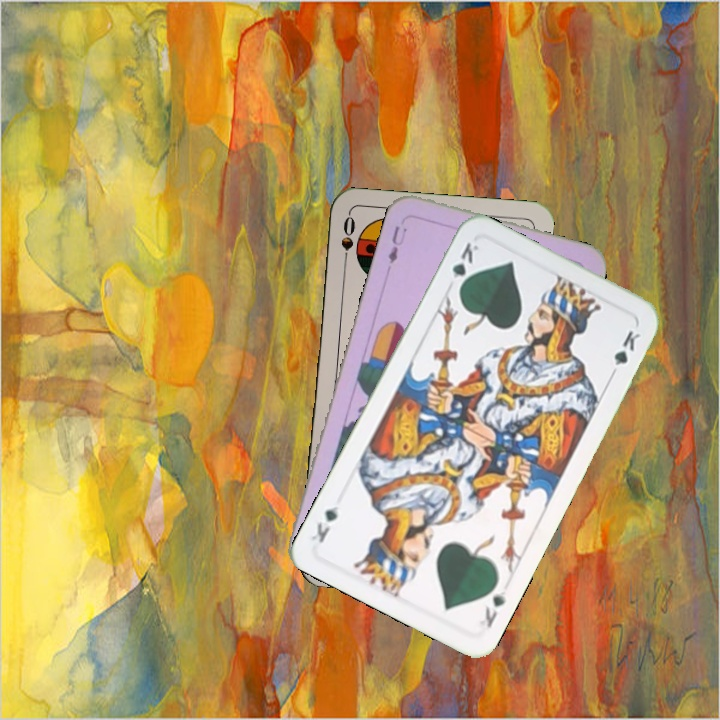EU: (383, 221, 410, 266)
GK: (444, 238, 481, 295), (475, 586, 509, 630)
SO: (336, 212, 358, 271)
